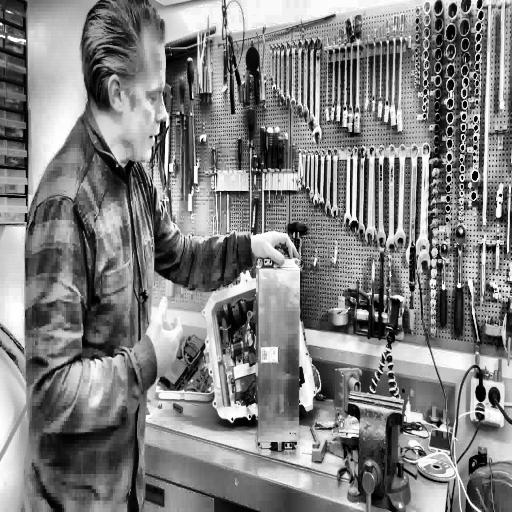battery_module: (259, 269, 298, 441)
